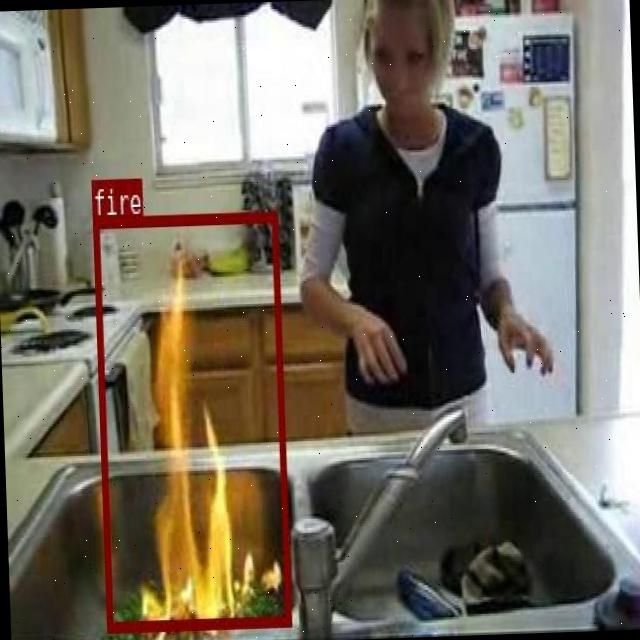fire: (92, 208, 290, 630)
